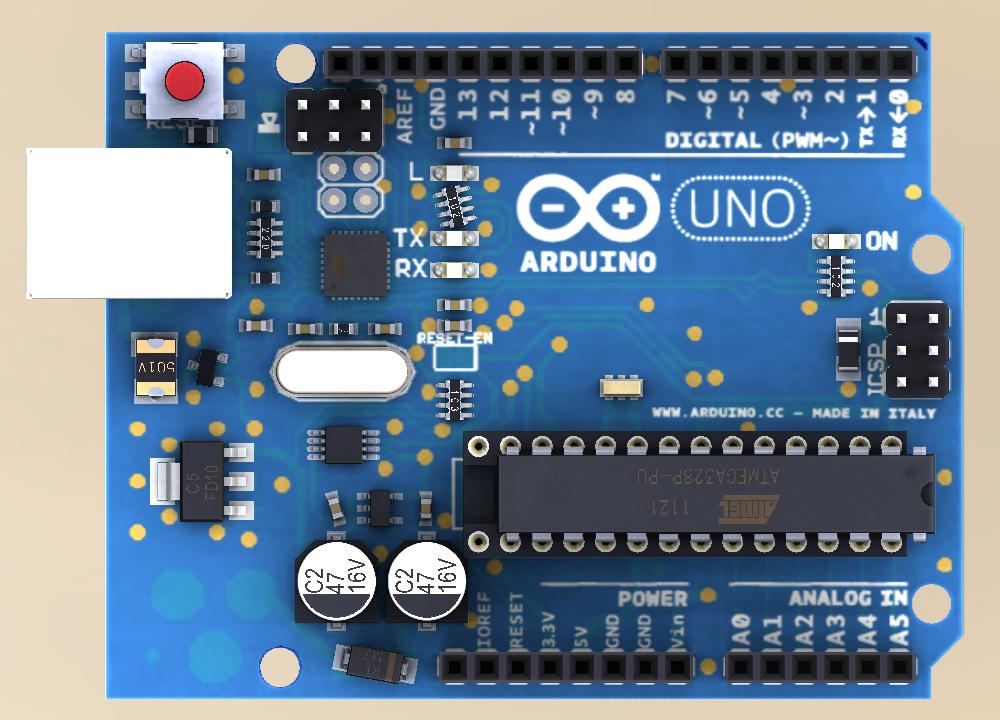16MHz Crystal: (595, 371, 646, 406)
47uF CAP: (288, 534, 378, 632), (383, 534, 469, 632)
ATMEL328P: (463, 429, 938, 560)
ATMega16u2: (319, 227, 392, 305)
CD1206: (835, 315, 865, 382)
Capa: (323, 488, 350, 529), (436, 133, 476, 153), (416, 488, 435, 529), (435, 296, 473, 315), (287, 318, 324, 337), (436, 317, 474, 335), (244, 166, 284, 183), (236, 318, 276, 335), (368, 322, 404, 339)
Crystal: (268, 342, 415, 404)
Fuse: (127, 330, 181, 406)
LED: (807, 231, 866, 251), (430, 260, 482, 281), (428, 162, 481, 181), (428, 230, 480, 249)
LMV358: (357, 489, 406, 530)
M7 diode: (330, 643, 422, 688)
PIN Header: (882, 301, 954, 403), (288, 88, 383, 154)
Ports: (323, 43, 644, 86), (434, 644, 695, 688), (659, 43, 920, 84), (718, 644, 924, 687)
Regulator: (126, 431, 269, 543)
Reset: (123, 40, 247, 125)
Resistor: (182, 125, 221, 147), (248, 196, 281, 216), (326, 321, 362, 338), (251, 270, 283, 288)
Resistor pack: (429, 183, 477, 229), (244, 216, 287, 261), (815, 253, 856, 299), (434, 379, 476, 423)
SSOT3: (181, 346, 230, 392)
USB: (25, 146, 232, 302)
lp2985: (306, 424, 383, 465)
